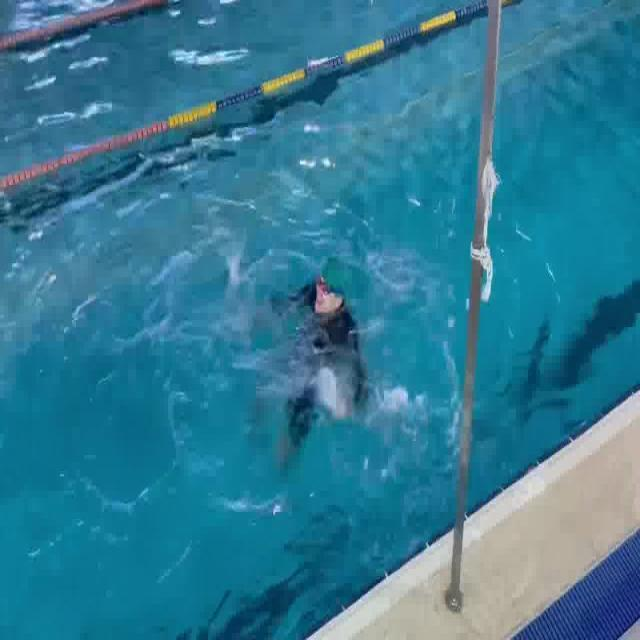drowning: (220, 223, 394, 501)
